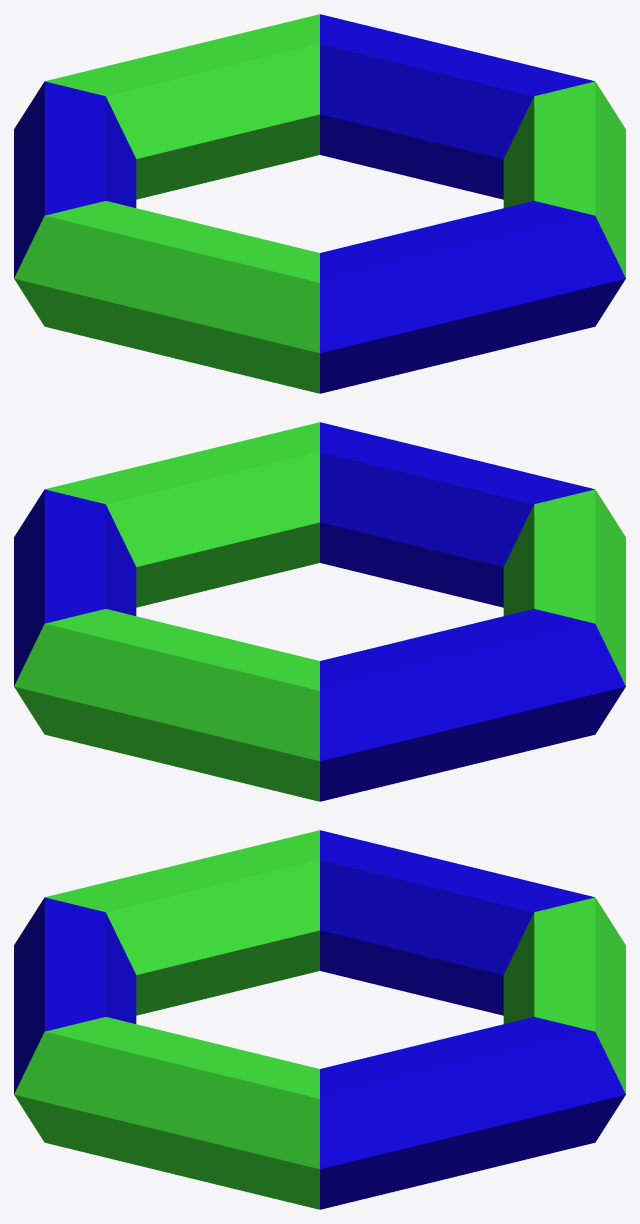
The picture shows the model from 3 angles, top to bottom: view 1: azimuth 30°, elevation 25°; view 2: azimuth 150°, elevation 25°; view 3: azimuth 270°, elevation 25°; orthographic projection.
Parts seen in each view (by area): view 1: Torus; view 2: Torus; view 3: Torus.
Part boxes in pixels (x1,y1,x2,y2): Torus: (14, 14, 625, 393); Torus: (14, 422, 625, 801); Torus: (14, 830, 625, 1209).
Bounding box in the file's own units: 250 × 43.3 × 217.
